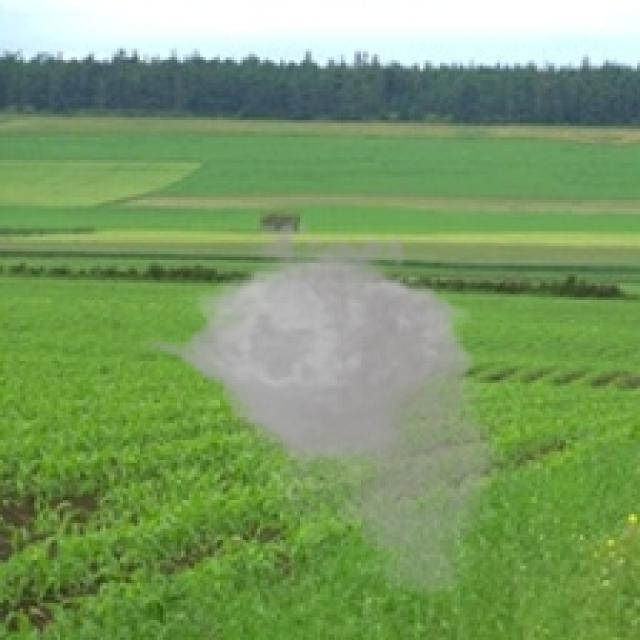smoke: (132, 208, 514, 603)
